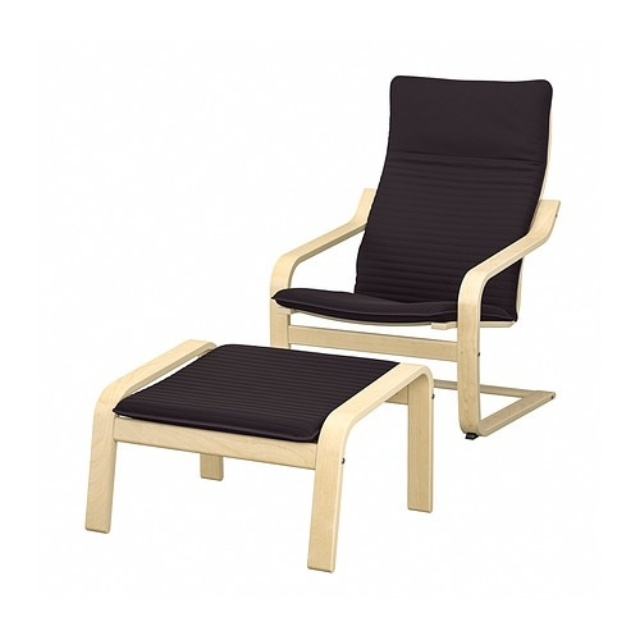obstacle: (270, 77, 558, 438), (86, 340, 433, 571)
